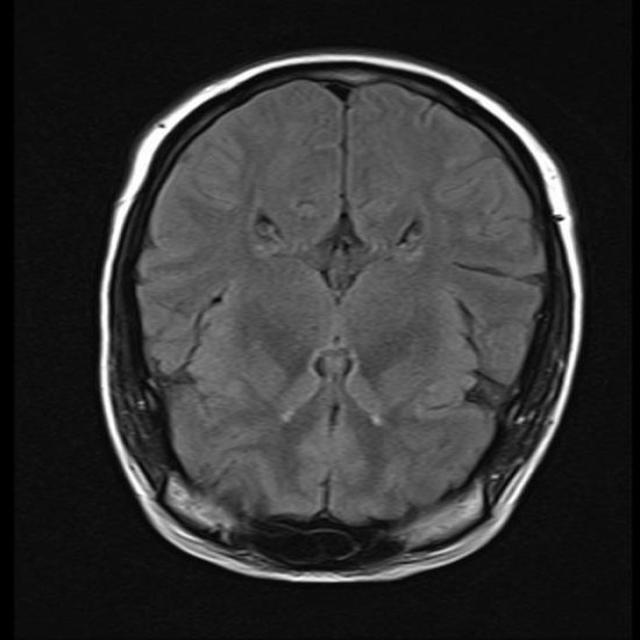notumor: (99, 52, 583, 582)
